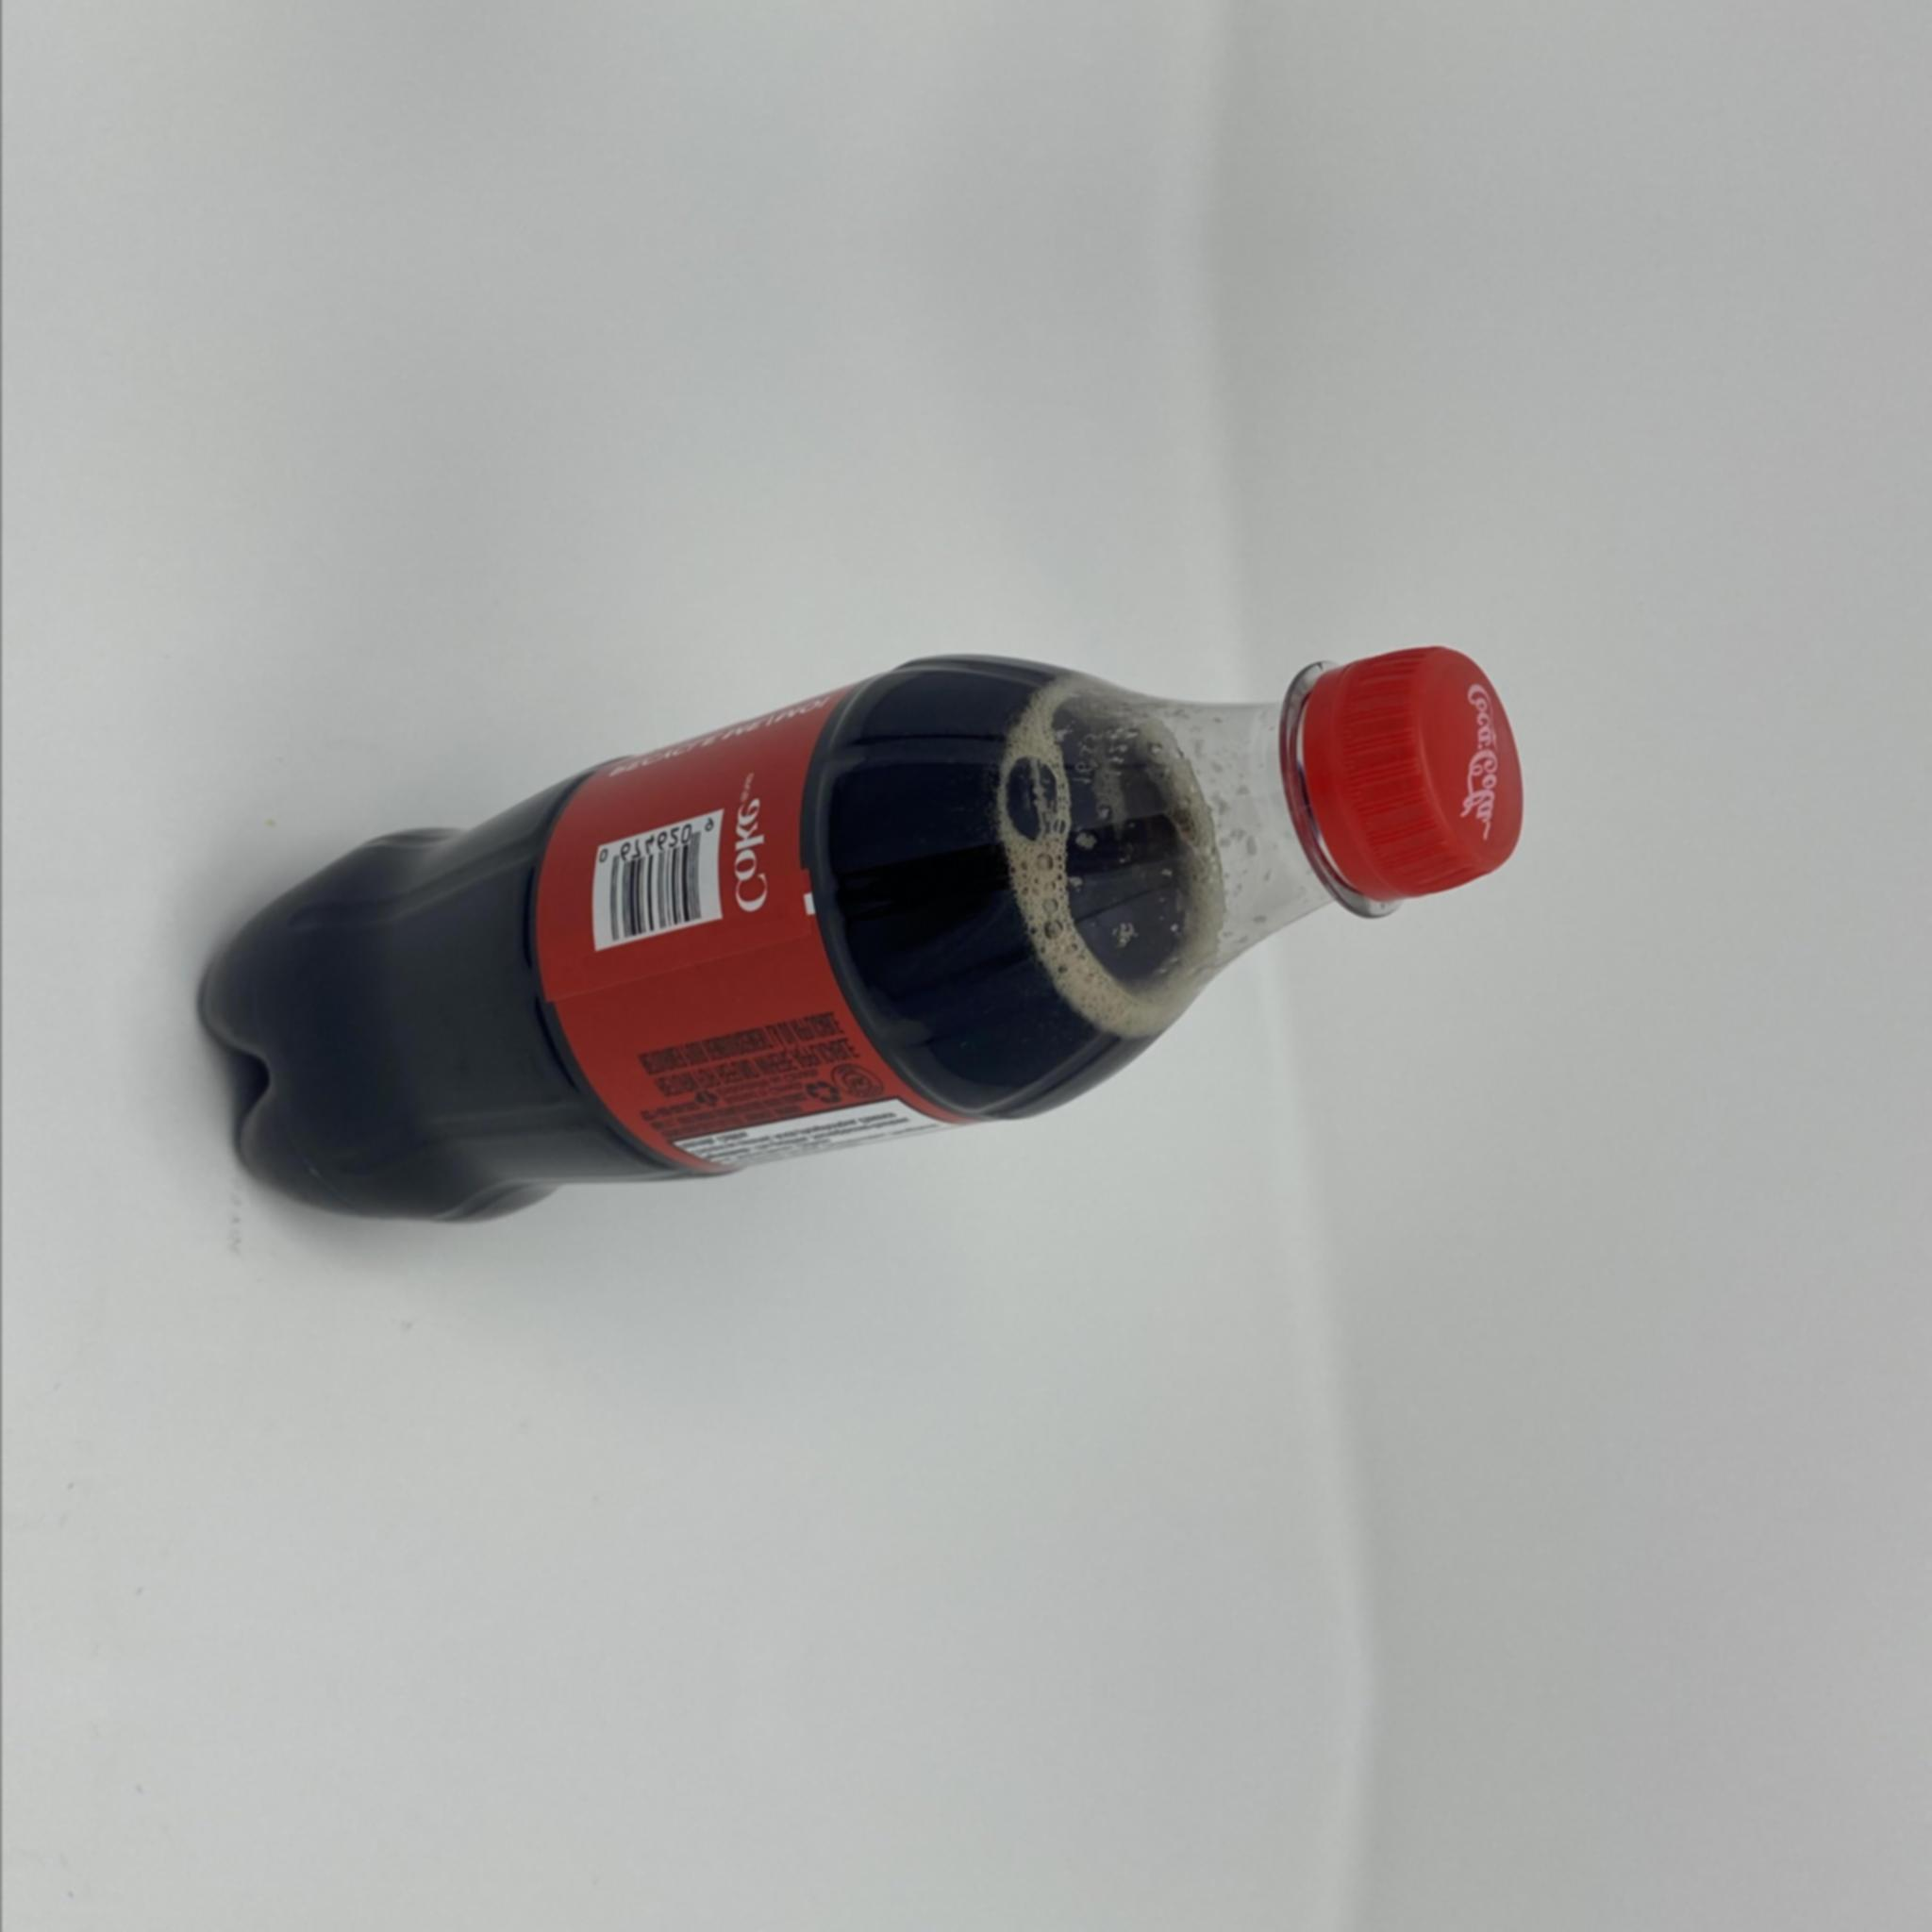PET: (191, 644, 1523, 1224)
cocacola: (191, 644, 1523, 1224)
plastic: (191, 644, 1523, 1224)
soft-drink: (191, 644, 1523, 1224)
